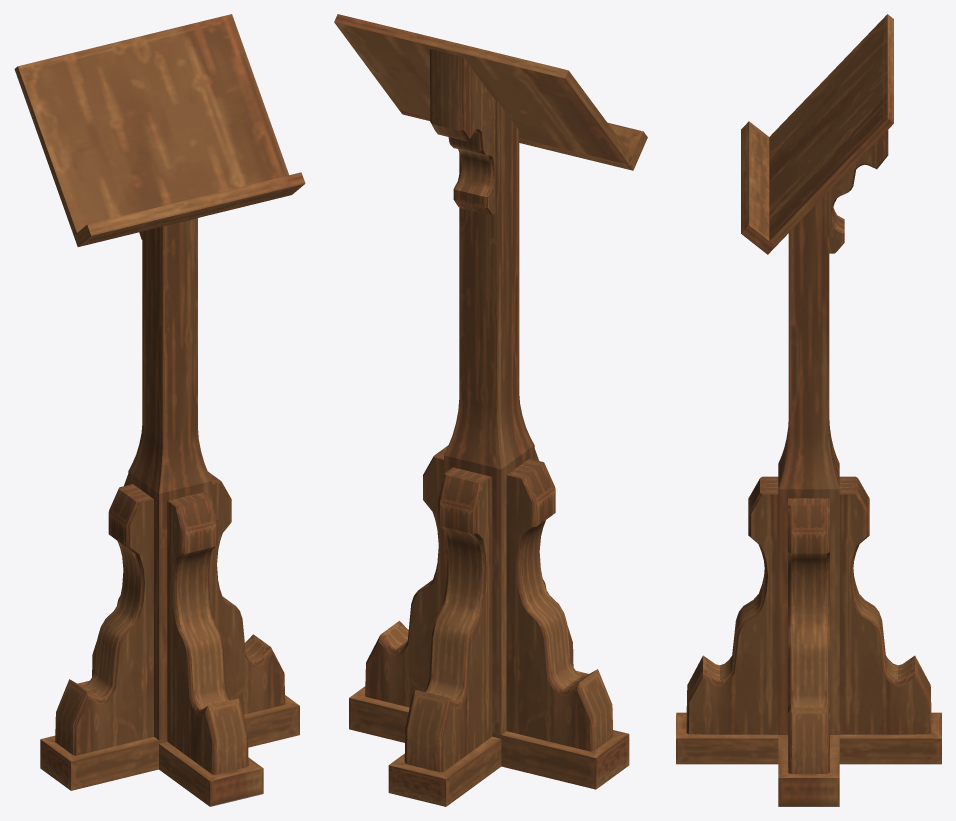
Rendered from book_stand.glb.
3 renders of one model, left to right at view 1: azimuth 30°, elevation 25°; view 2: azimuth 150°, elevation 25°; view 3: azimuth 270°, elevation 25°, orthographic. The views are drawn at different scales.
Parts seen in each view (by area): view 1: BookStand; view 2: BookStand; view 3: BookStand.
Part boxes in pixels (bbox=[...]): BookStand: bbox=[14, 14, 305, 806]; BookStand: bbox=[334, 14, 647, 806]; BookStand: bbox=[676, 14, 941, 806].
Size of the model in its own units: 0.5071 by 1.45 by 0.5112.
Materials: 1 (1 with a texture image).
